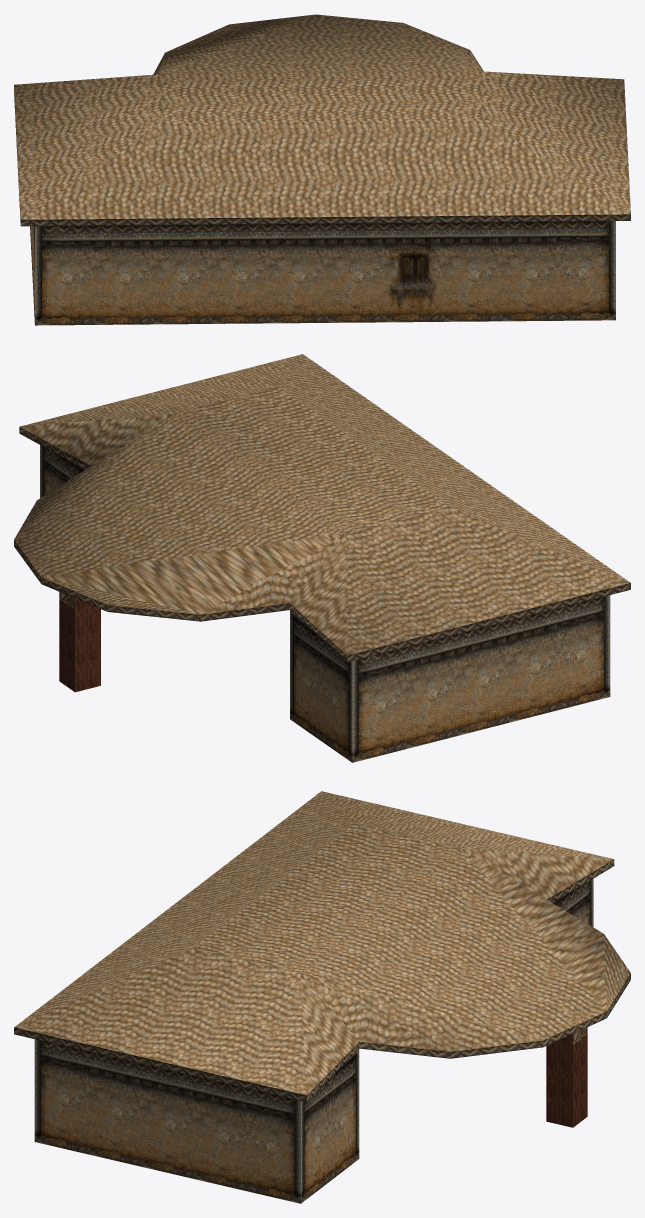
3 views of the same model, one above another, from view 1: azimuth 30°, elevation 25°; view 2: azimuth 150°, elevation 25°; view 3: azimuth 270°, elevation 25° (orthographic). The views are drawn at different scales.
Parts seen in each view (by area): view 1: Out01BlackS02_W (1)_6, Out01BlackS02_W (1)_12, Out01BlackS02_W (1)_5, Out01BlackS02_W (1)_1, Out01BlackS02_W (1)_4, Out01BlackS02_W (1)_3, Out01BlackS02_W (1)_0; view 2: Out01BlackS02_W (1)_6, Out01BlackS02_W (1)_12, Out01BlackS02_W (1)_5, Out01BlackS02_W (1)_3, Out01BlackS02_W (1)_1, Out01BlackS02_W (1)_0, Out01BlackS02_W (1)_2; view 3: Out01BlackS02_W (1)_6, Out01BlackS02_W (1)_12, Out01BlackS02_W (1)_5, Out01BlackS02_W (1)_1, Out01BlackS02_W (1)_3, Out01BlackS02_W (1)_0, Out01BlackS02_W (1)_2.
Boxes of the visible parts, x1,y1,x2,y2 form: Out01BlackS02_W (1)_6: (14, 14, 630, 219); Out01BlackS02_W (1)_12: (21, 23, 630, 219); Out01BlackS02_W (1)_5: (30, 221, 557, 324); Out01BlackS02_W (1)_1: (33, 221, 615, 323); Out01BlackS02_W (1)_4: (383, 222, 441, 322); Out01BlackS02_W (1)_3: (35, 225, 92, 325); Out01BlackS02_W (1)_0: (14, 88, 630, 226); Out01BlackS02_W (1)_6: (14, 354, 630, 655); Out01BlackS02_W (1)_12: (14, 354, 630, 654); Out01BlackS02_W (1)_5: (404, 608, 558, 749); Out01BlackS02_W (1)_3: (40, 445, 403, 762); Out01BlackS02_W (1)_1: (71, 462, 610, 762); Out01BlackS02_W (1)_0: (14, 427, 630, 662); Out01BlackS02_W (1)_2: (59, 598, 100, 692); Out01BlackS02_W (1)_6: (14, 791, 630, 1095); Out01BlackS02_W (1)_12: (15, 791, 613, 1094); Out01BlackS02_W (1)_5: (88, 1051, 247, 1191); Out01BlackS02_W (1)_1: (247, 878, 593, 1203); Out01BlackS02_W (1)_3: (34, 896, 564, 1203); Out01BlackS02_W (1)_0: (14, 859, 630, 1102); Out01BlackS02_W (1)_2: (546, 1034, 587, 1127).
Bounding box in the file's own units: 15.17 × 3.84 × 13.
Materials: 11 (11 with a texture image).
